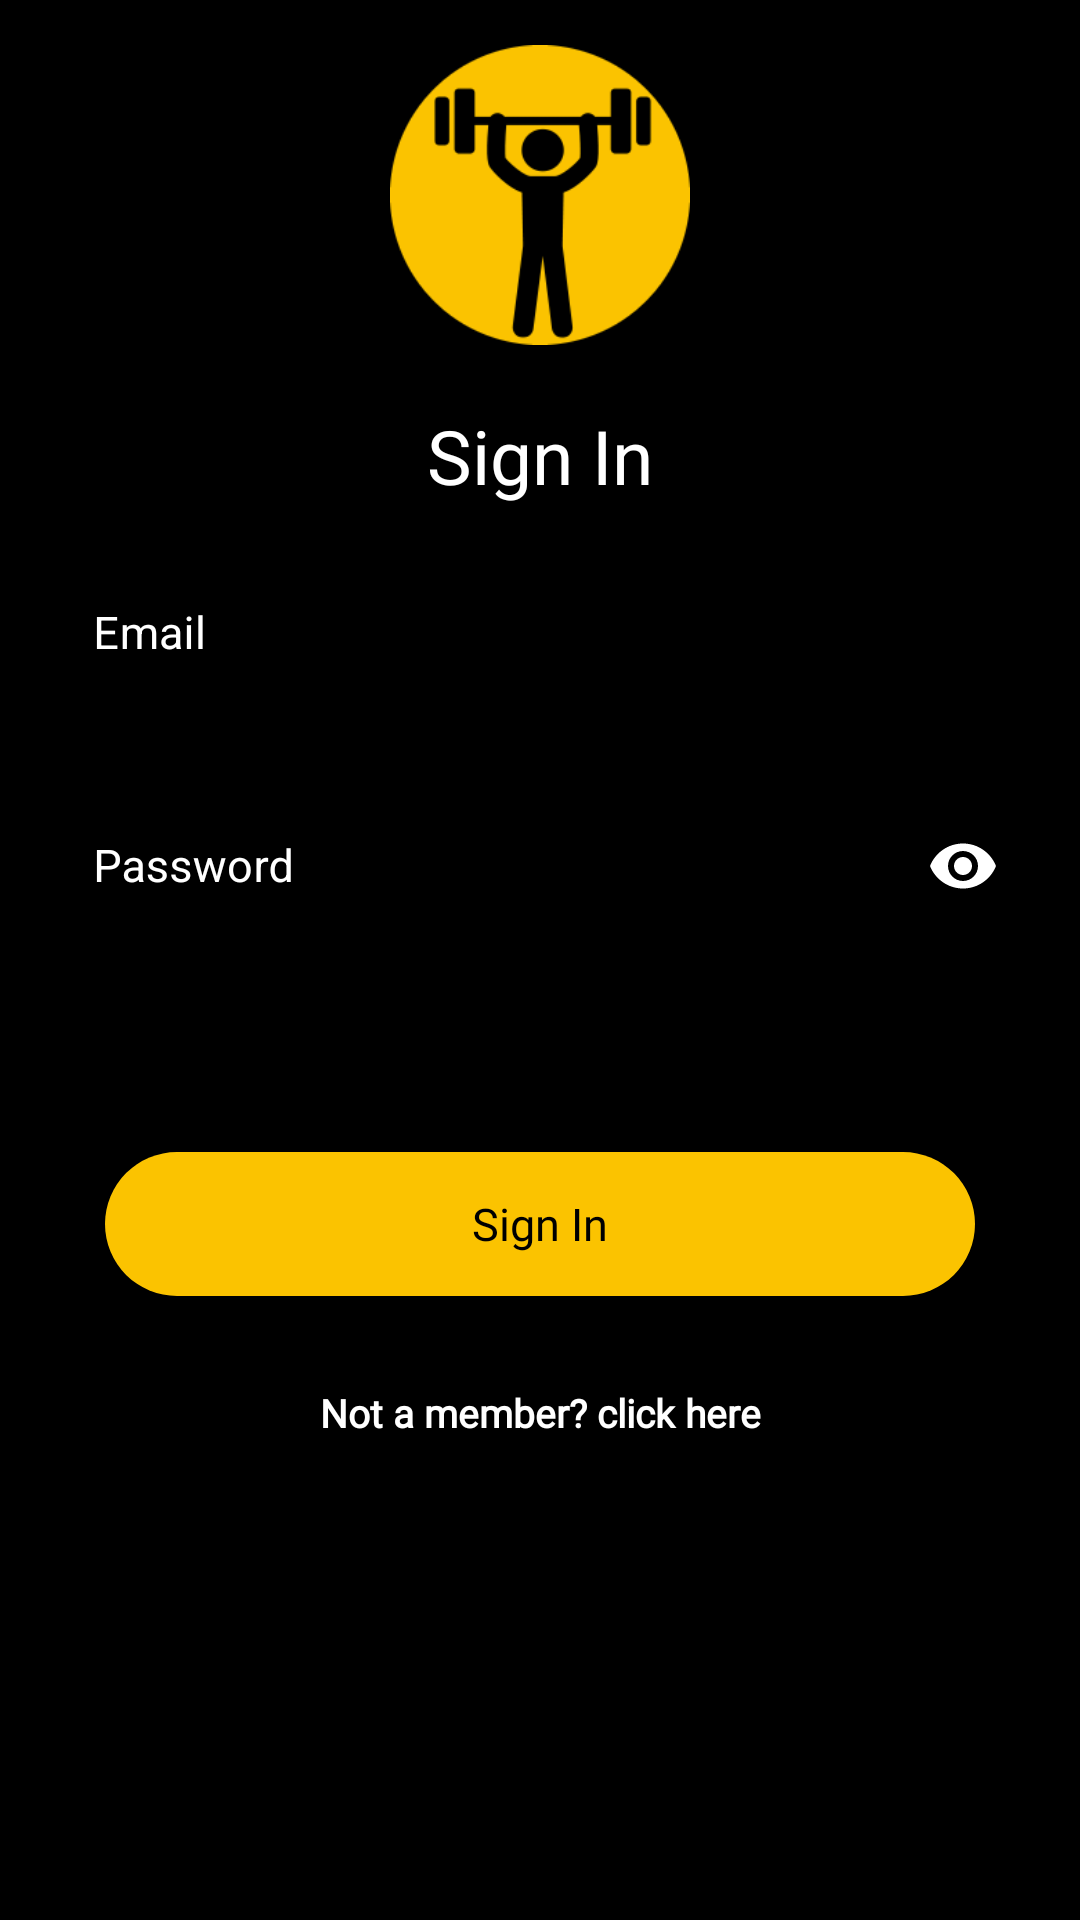

Screen size 1080*1920. Icon name, then its center in pixels as [x,y]:
fit: [540,195]
